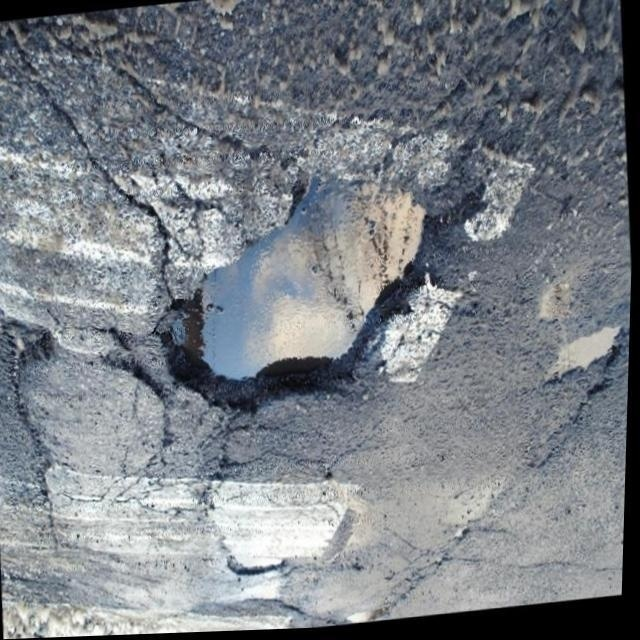pothole: (158, 172, 452, 428), (539, 312, 631, 404)
